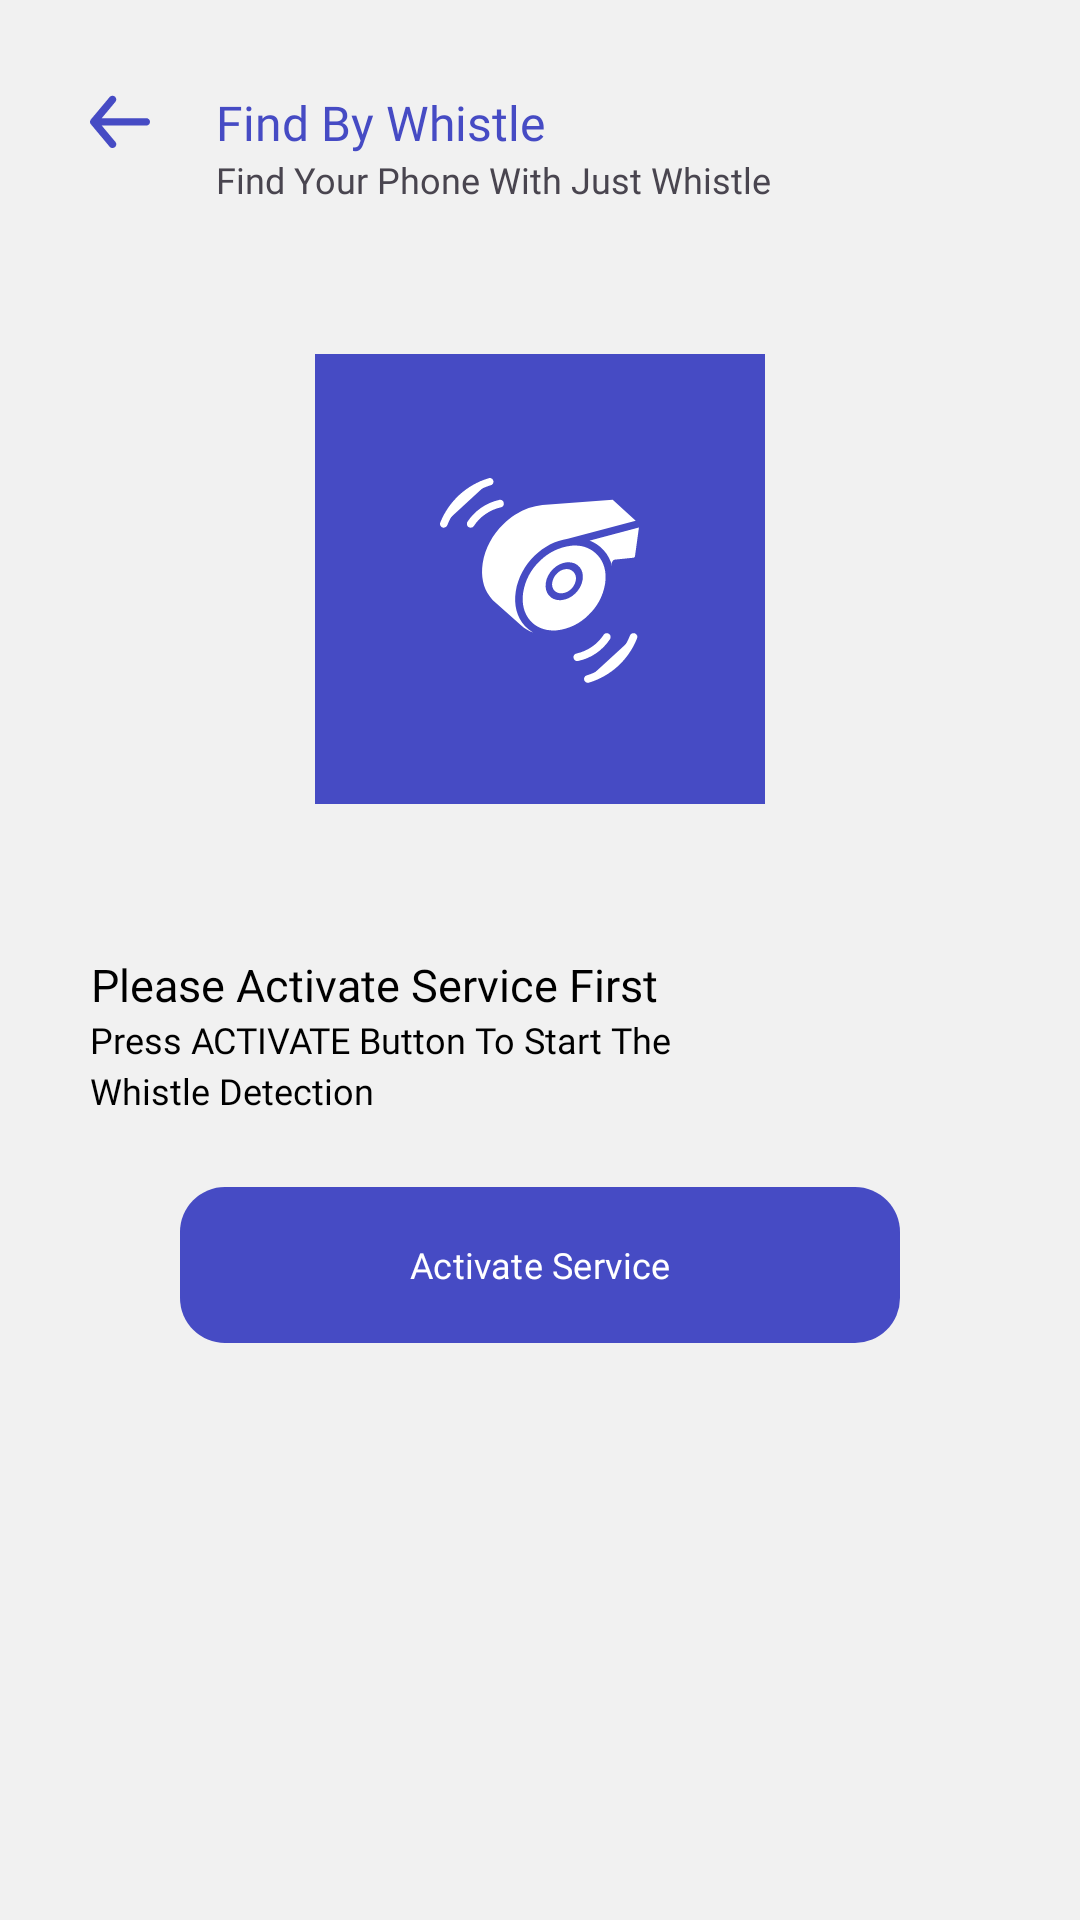

Named icons in this screenshot (1080×1920) and their bounding boxes, bbox=[x1, y1, x2, y2]:
back arrow: bbox=[90, 95, 150, 148]
whistle: bbox=[440, 478, 639, 683]
